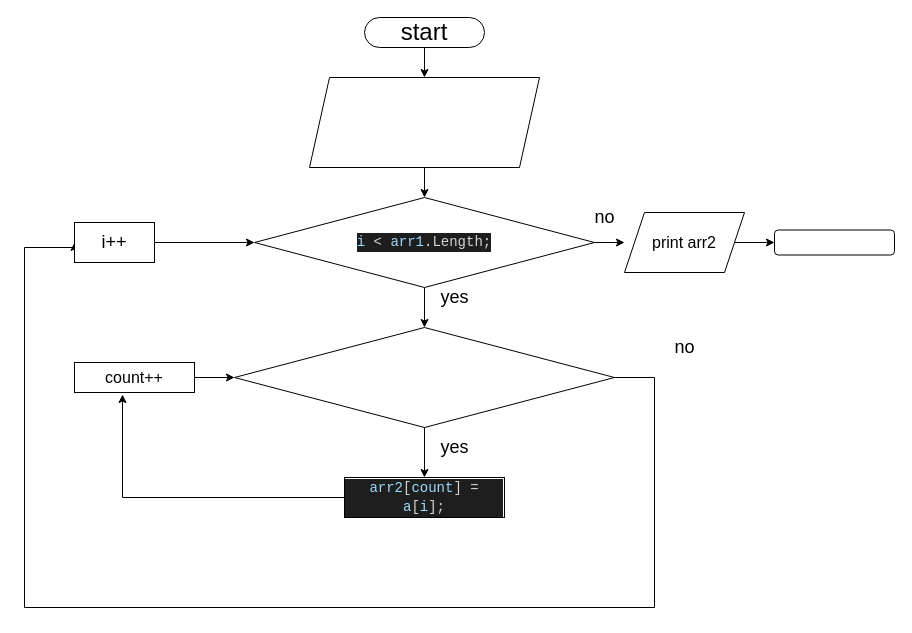
Some shapes in this 912 by 633 pixel diagram are drawn without their labels. Each missing label, with the centre of its shape:
arr1 [ i ].Length <= 3: pixel 424 377
arr1 arr2 count=0 i=0: pixel 424 122
END: pixel 834 242
